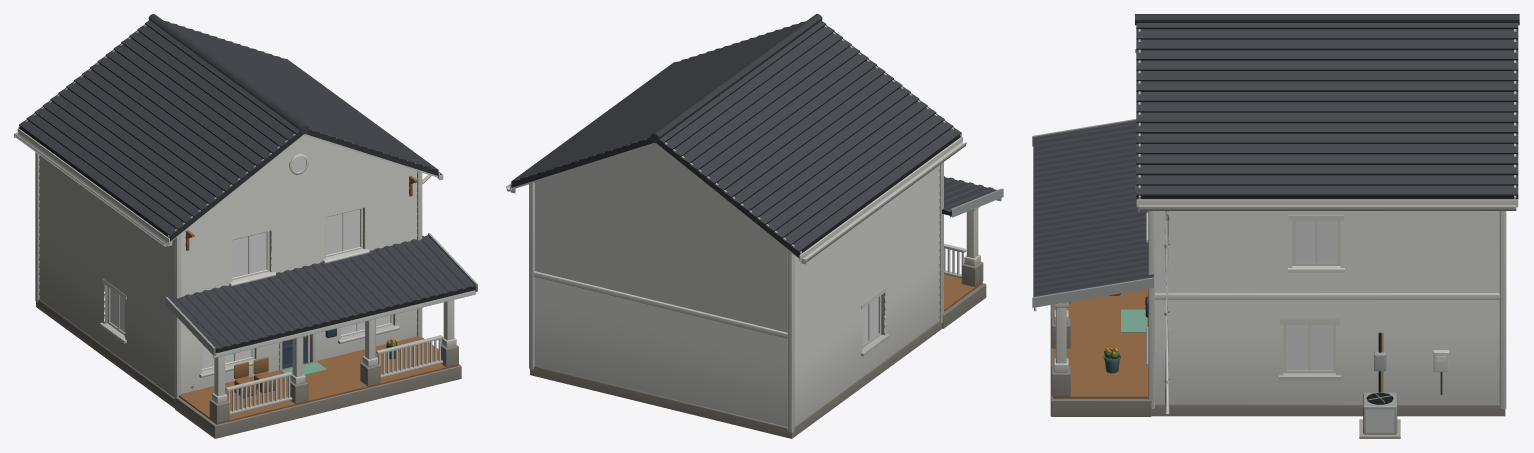
The model's file is CraftsmanPorch.fbx.
3 renders of one model, left to right at view 1: azimuth 30°, elevation 25°; view 2: azimuth 150°, elevation 25°; view 3: azimuth 270°, elevation 25°, orthographic. The views are drawn at different scales.
Parts seen in each view (by area): view 1: CraftsmanPorch; view 2: CraftsmanPorch; view 3: CraftsmanPorch.
Boxes of the visible parts, left/top/right/bottom form: CraftsmanPorch: left=14, top=14, right=477, bottom=438; CraftsmanPorch: left=506, top=14, right=1003, bottom=438; CraftsmanPorch: left=1032, top=14, right=1519, bottom=438.
Size of the model in its own units: 9.91 by 8.21 by 11.1.
